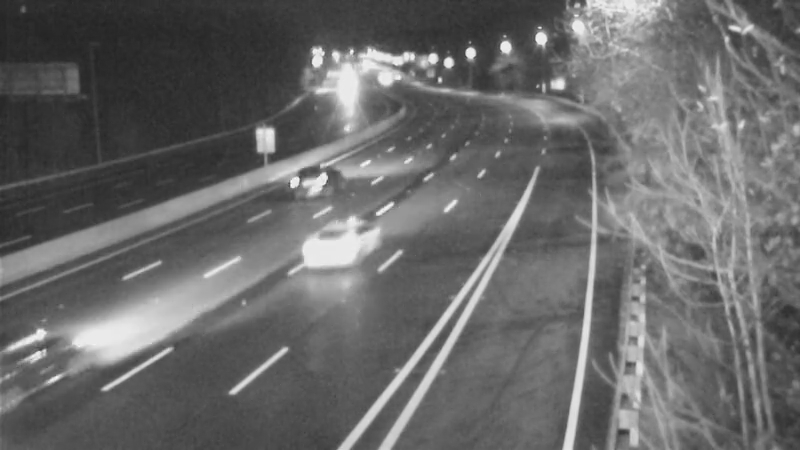vehicle: (273, 153, 353, 233), (301, 207, 381, 287)
